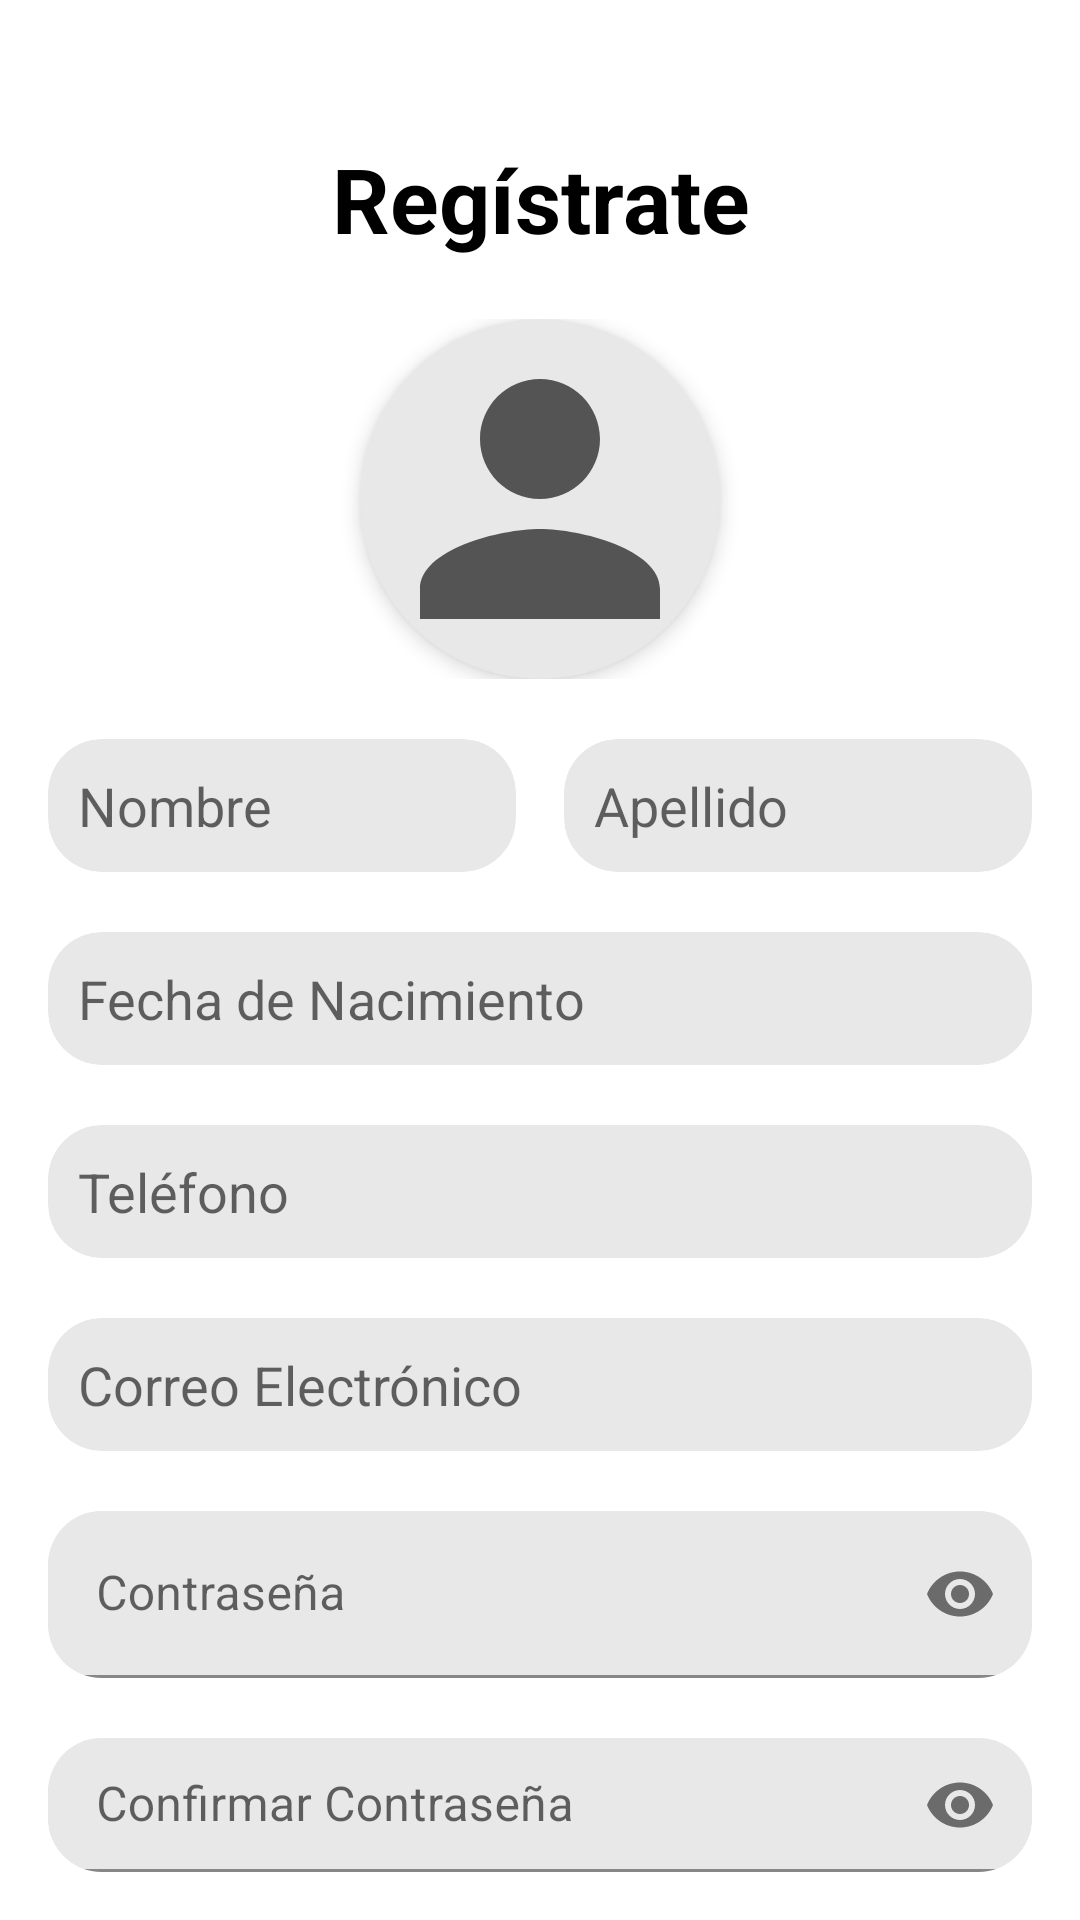

Where to tap for icons on this 1080 × 1920 app screen, as (x=x, y=y):
profile: (x=540, y=499)
